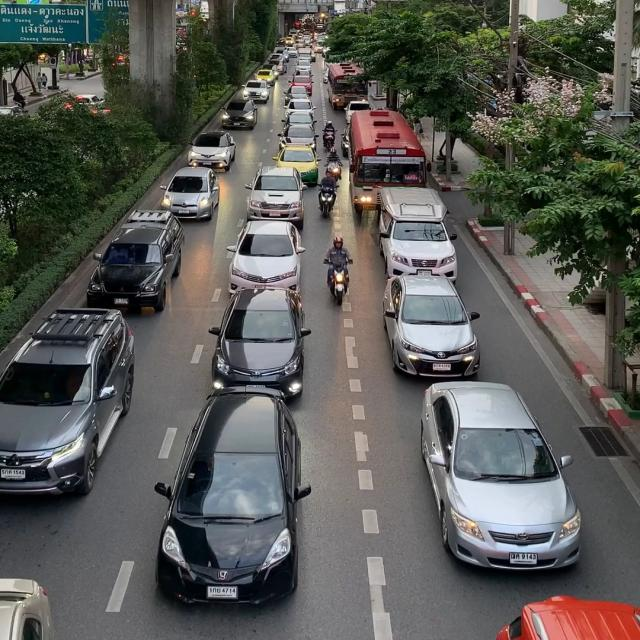Car: (160, 388, 318, 611), (420, 383, 584, 576), (0, 308, 142, 503), (212, 287, 313, 404), (377, 277, 482, 382), (85, 208, 190, 306), (347, 109, 432, 214), (376, 186, 461, 274), (227, 218, 309, 294), (158, 166, 225, 227), (251, 162, 307, 224), (190, 128, 239, 174), (276, 146, 321, 186)
